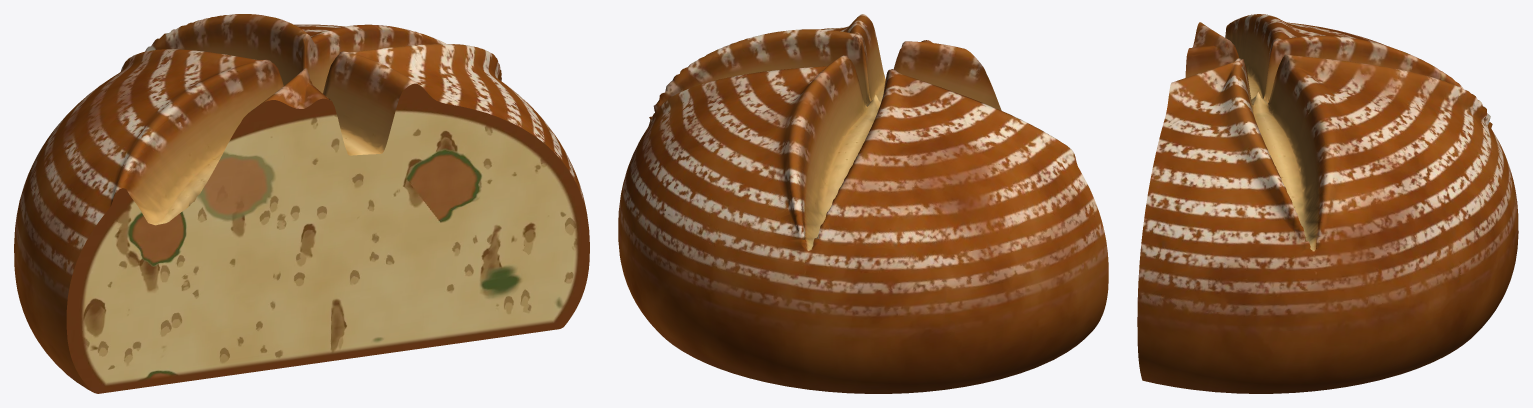
Rendered from campagne--pumpkin-puree.glb.
3 views of the same model, side by side, from view 1: azimuth 30°, elevation 25°; view 2: azimuth 150°, elevation 25°; view 3: azimuth 270°, elevation 25° (orthographic). The views are drawn at different scales.
Visible parts, largest first — view 1: campagne_pumpkin-puree; view 2: campagne_pumpkin-puree; view 3: campagne_pumpkin-puree.
Boxes of the visible parts, x1,y1,x2,y2 form: campagne_pumpkin-puree: [14, 14, 589, 393]; campagne_pumpkin-puree: [618, 14, 1108, 393]; campagne_pumpkin-puree: [1137, 14, 1518, 393].
Bounding box in the file's own units: 0.9987 × 0.5303 × 0.7329.
1 material, 1 textured.
